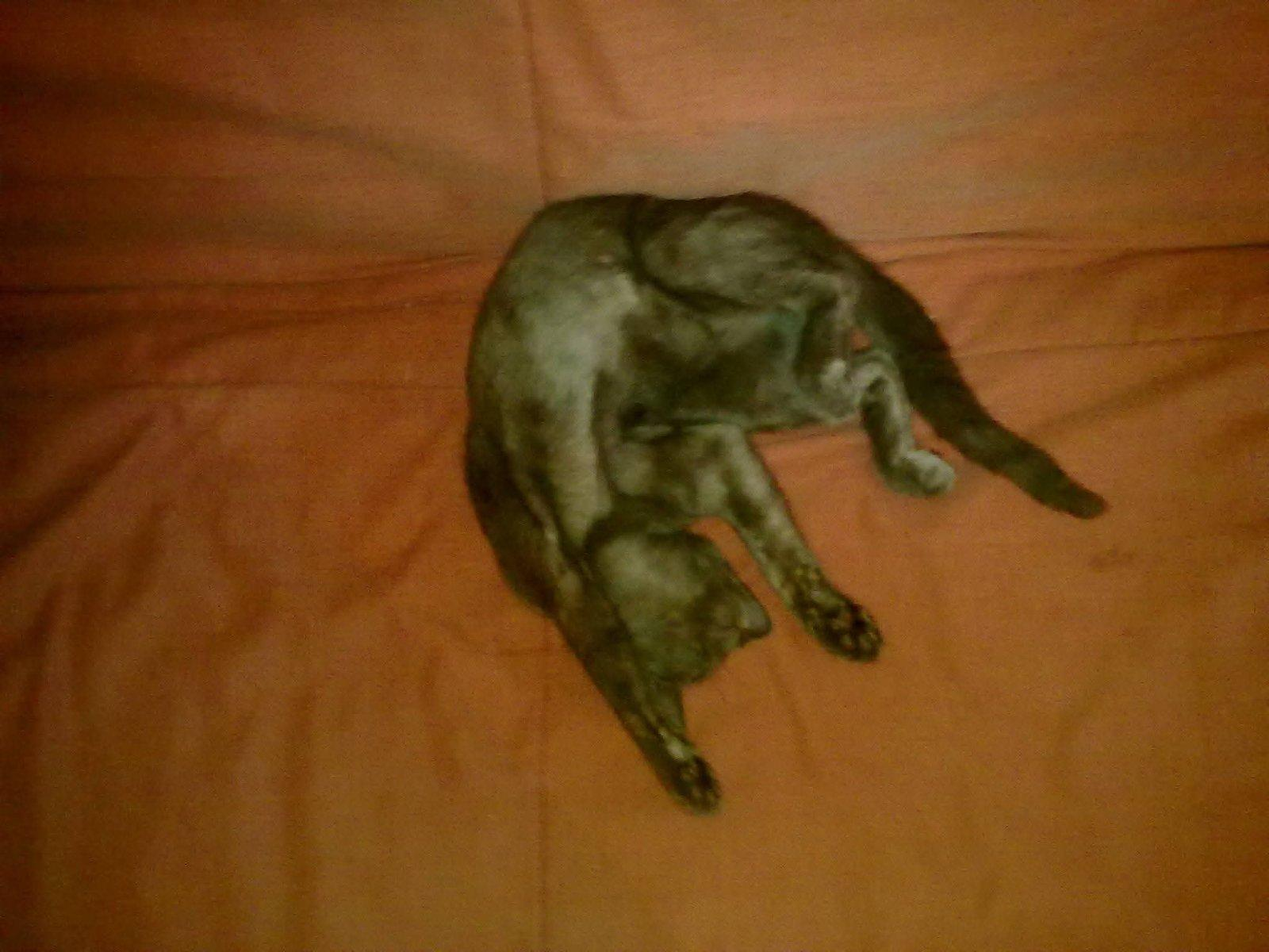macka: (466, 193, 1112, 812)
